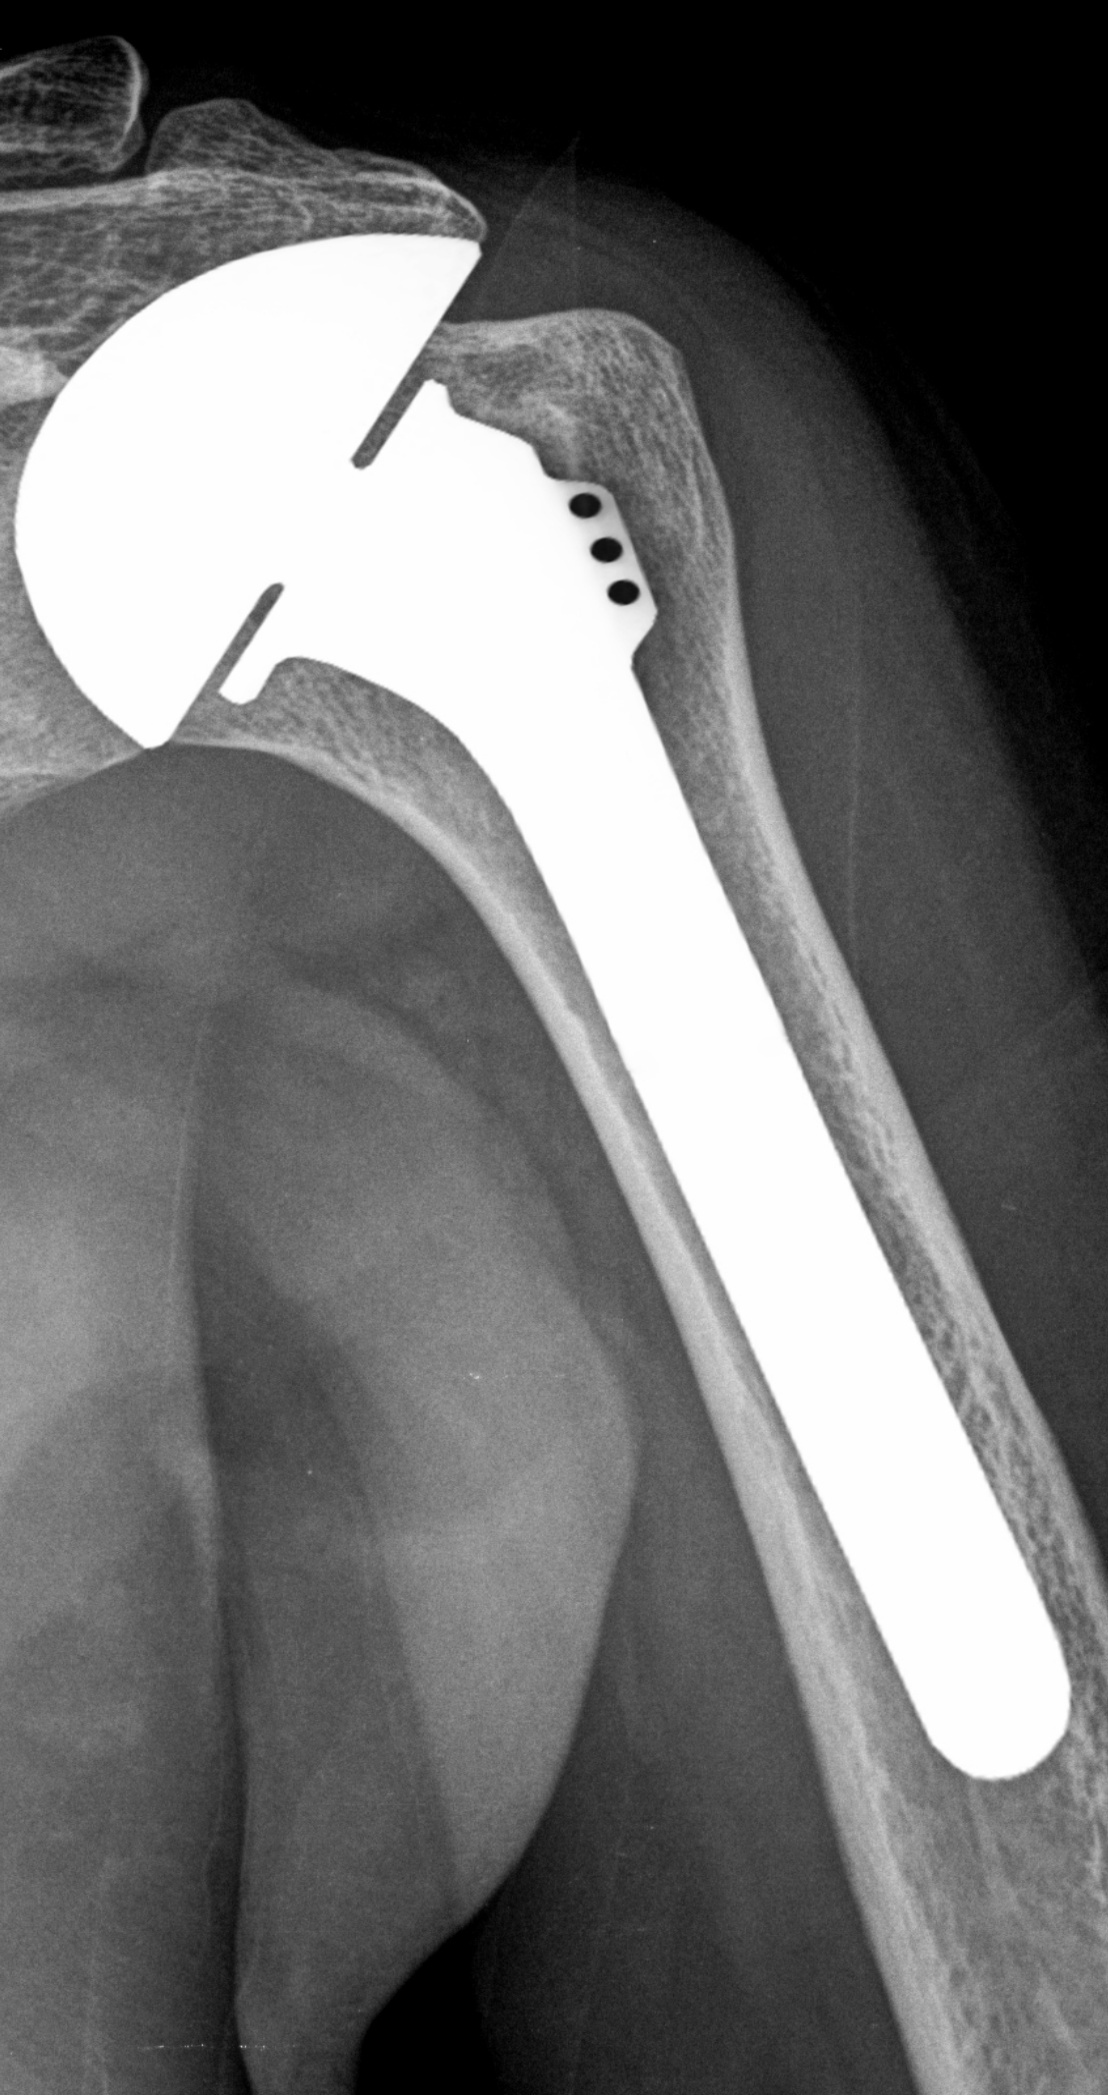Shoulder-Olympia-Wright: (14, 218, 1078, 1787)
